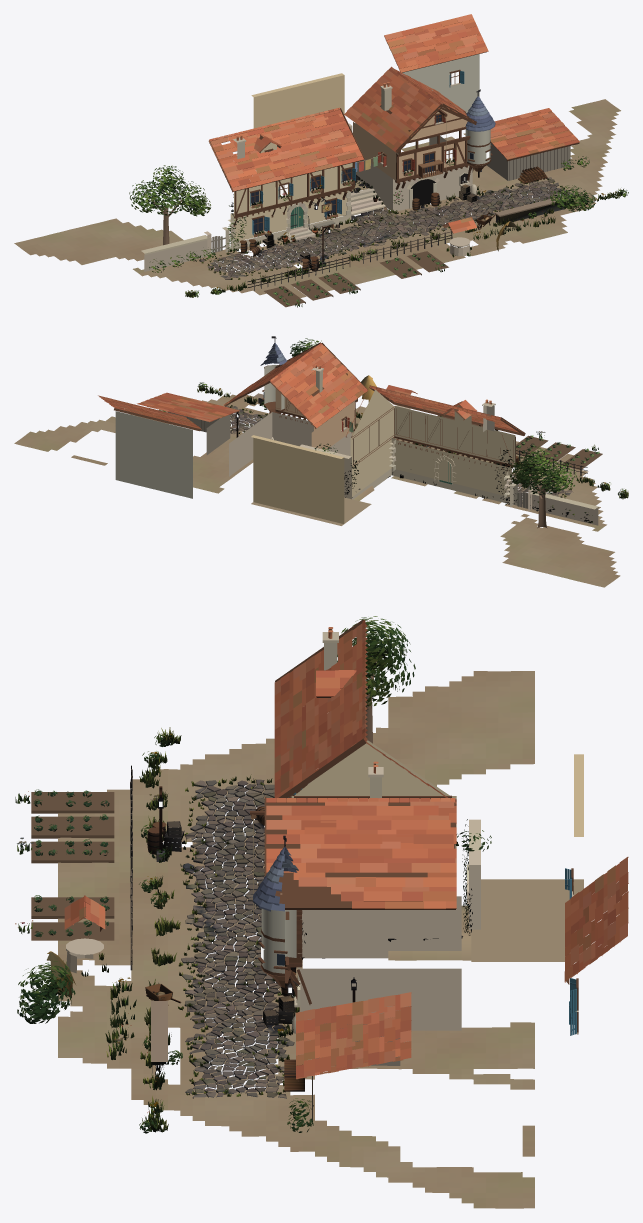
File: calle.glb
3 views of the same model, one above another, from view 1: azimuth 30°, elevation 25°; view 2: azimuth 150°, elevation 25°; view 3: azimuth 270°, elevation 25° (orthographic). The views are drawn at different scales.
Visible parts, largest first — view 1: calle, piezas, vegetacion; view 2: calle, vegetacion, piezas; view 3: calle, piezas, vegetacion.
Boxes of the visible parts, x1=… form: calle: x1=14, y1=14, x2=620, y2=307; piezas: x1=199, y1=165, x2=575, y2=290; vegetacion: x1=129, y1=156, x2=628, y2=307; calle: x1=14, y1=336, x2=620, y2=587; vegetacion: x1=159, y1=338, x2=628, y2=522; piezas: x1=226, y1=375, x2=587, y2=502; calle: x1=31, y1=619, x2=628, y2=1208; piezas: x1=47, y1=765, x2=462, y2=1098; vegetacion: x1=15, y1=616, x2=491, y2=1133.
Bounding box in the file's own units: 52 × 9.48 × 25.15.
